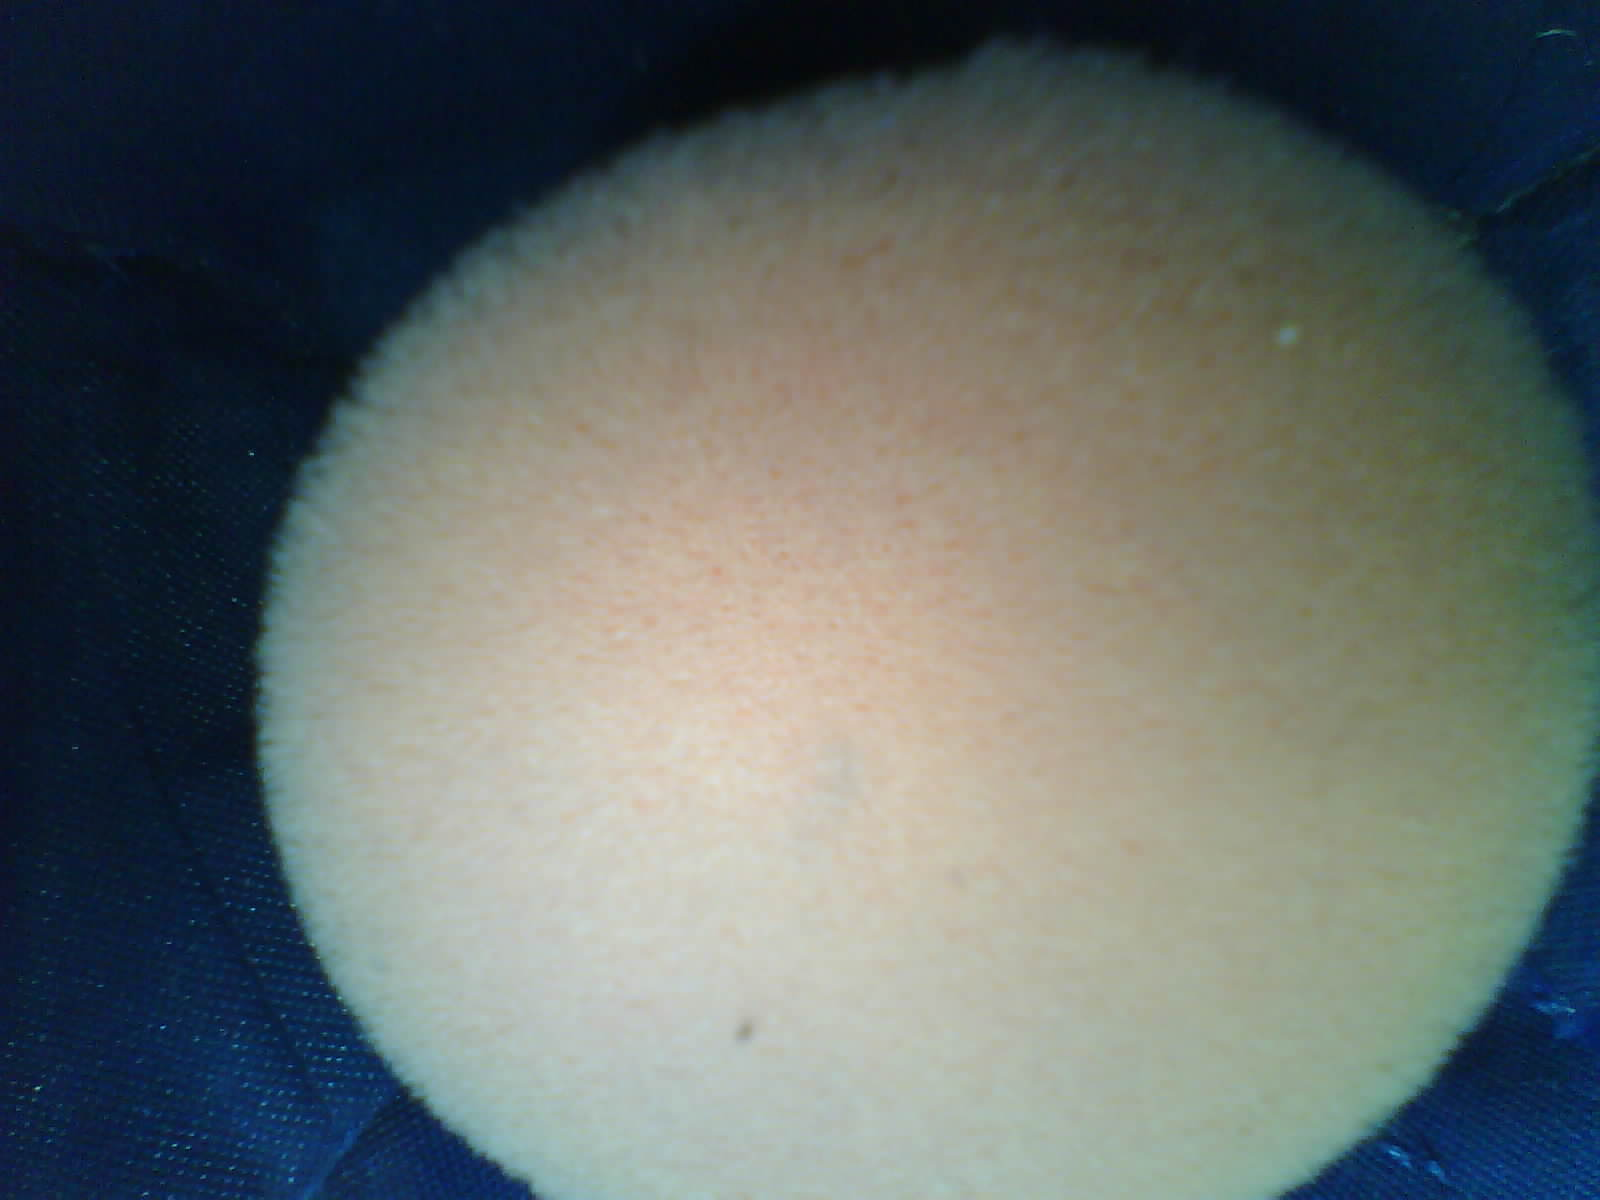cylinder-soft: (224, 37, 1600, 1200)
